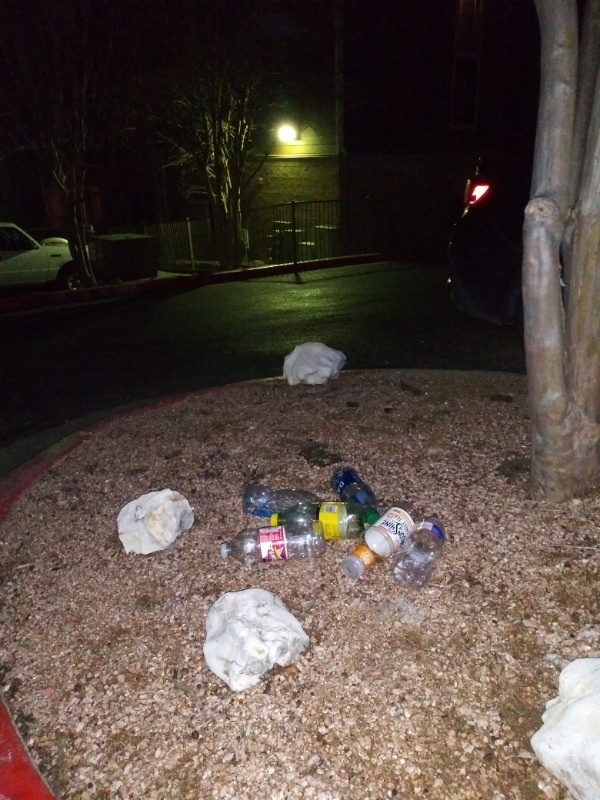bottle: (342, 496, 420, 582), (387, 509, 453, 590), (215, 524, 327, 563), (237, 482, 344, 522), (264, 500, 365, 542), (325, 463, 380, 524)
